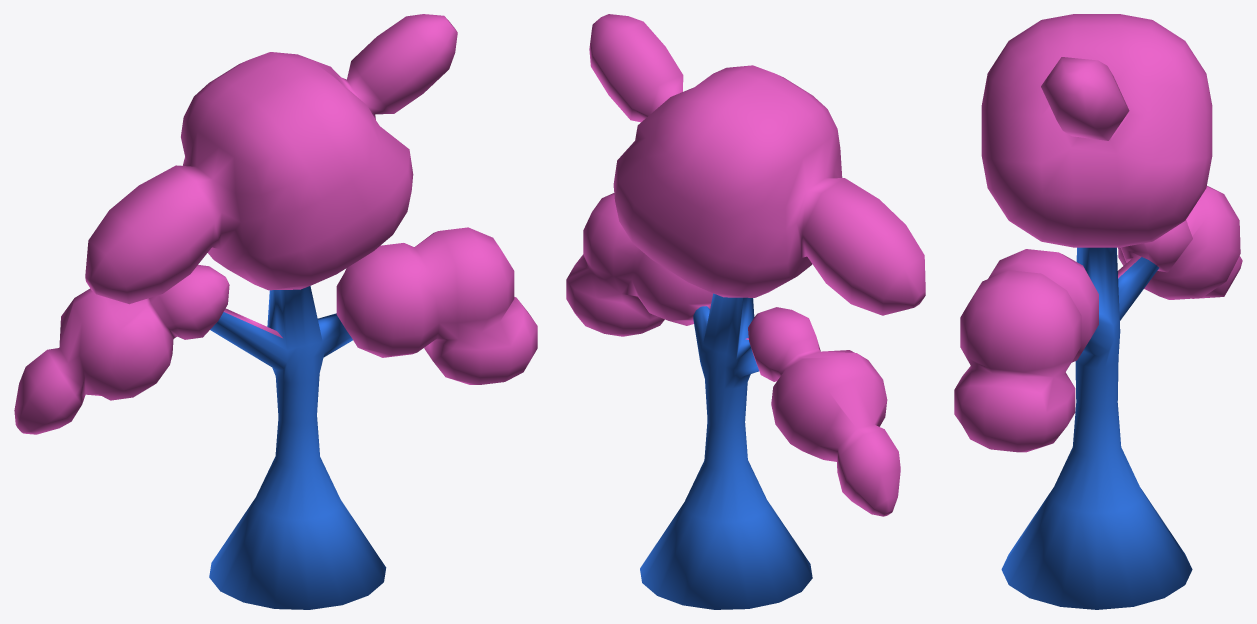
Rendered from arbol.fbx.
3 views of the same model, side by side, from view 1: azimuth 30°, elevation 25°; view 2: azimuth 150°, elevation 25°; view 3: azimuth 270°, elevation 25° (orthographic). The views are drawn at different scales.
Parts seen in each view (by area): view 1: Cylinder; view 2: Cylinder; view 3: Cylinder.
Boxes of the visible parts, bbox=[...] form: Cylinder: bbox=[14, 14, 537, 609]; Cylinder: bbox=[566, 14, 925, 609]; Cylinder: bbox=[954, 14, 1242, 609].
Bounding box in the file's own units: 125 × 69.54 × 151.
